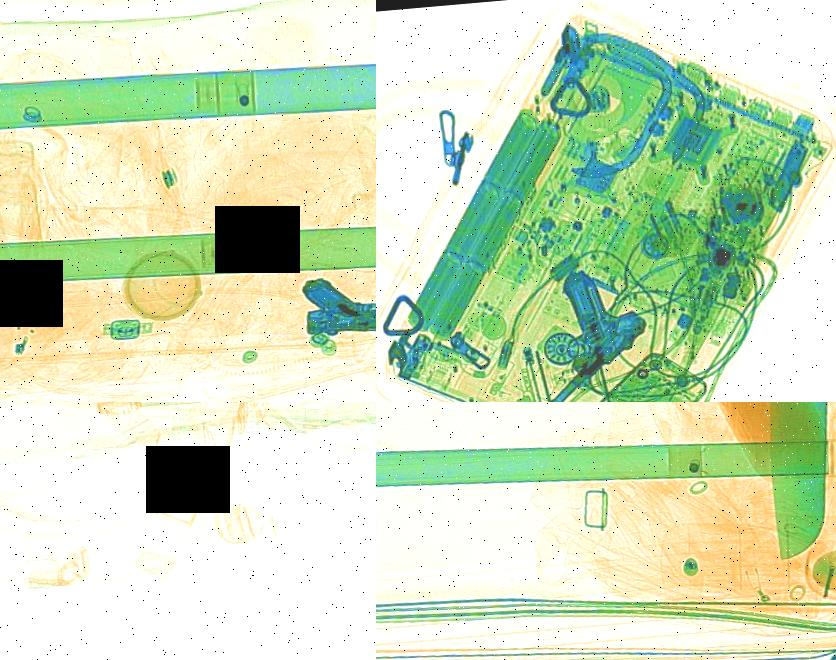Gun: (481, 260, 656, 402), (271, 261, 376, 361)
Knife: (742, 402, 836, 561)
